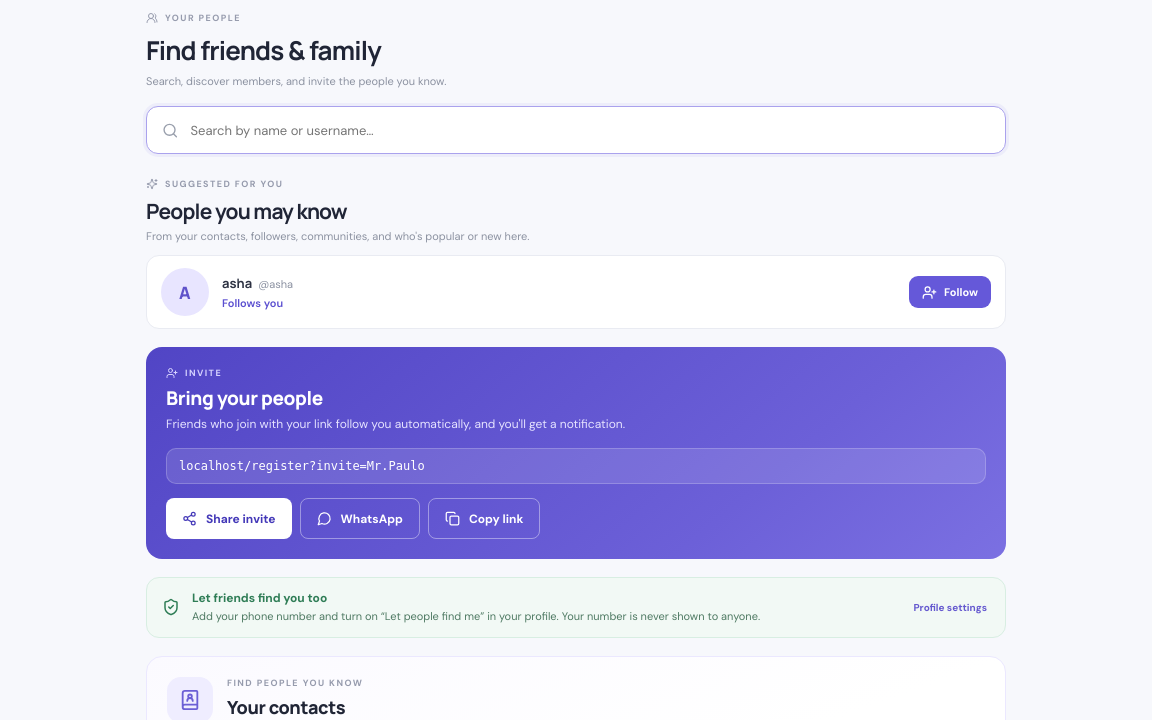
Test case: PeoplePage › searches people by name
Type "ju" into the field named "Search people" at (589, 130), box x1=188 y1=120 x2=990 y2=140
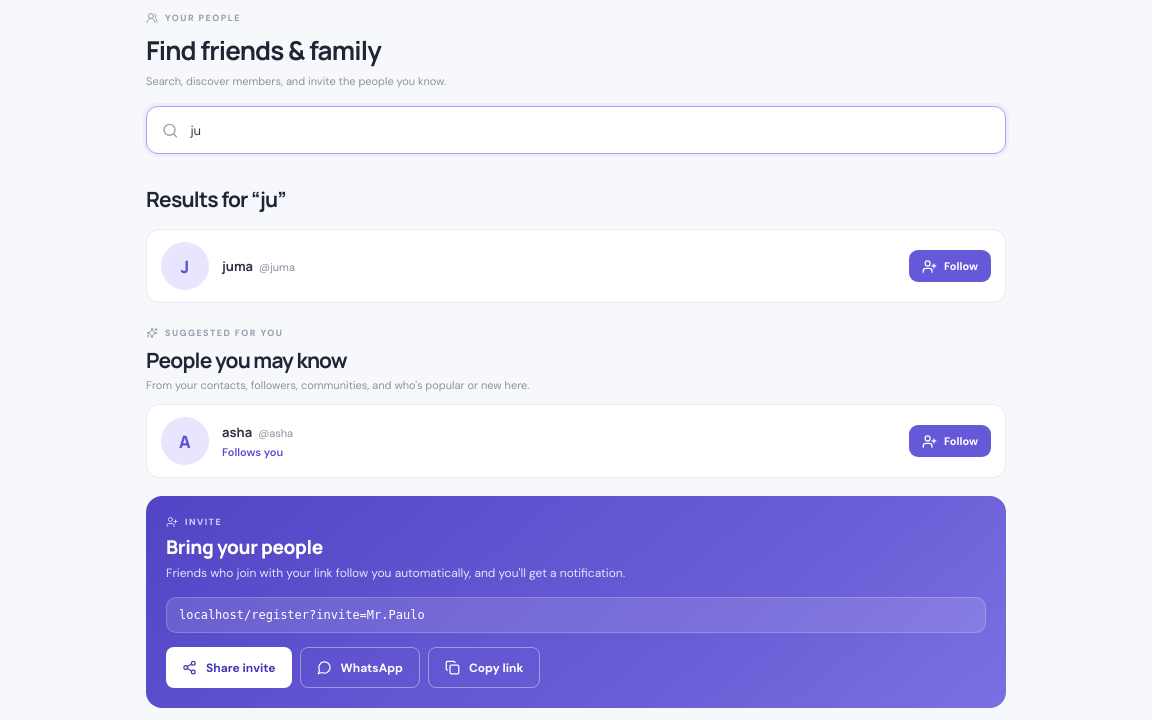
expect the text "@juma" is shown: met, box x1=259 y1=260 x2=295 y2=274
